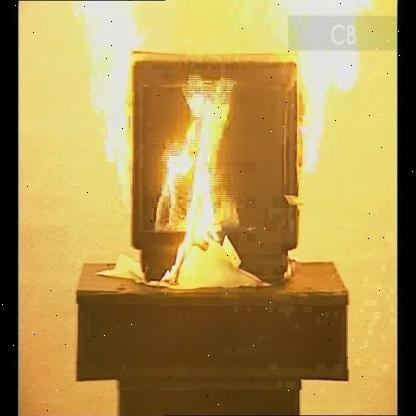fire: (148, 82, 245, 297), (288, 2, 369, 182), (77, 0, 145, 198)
